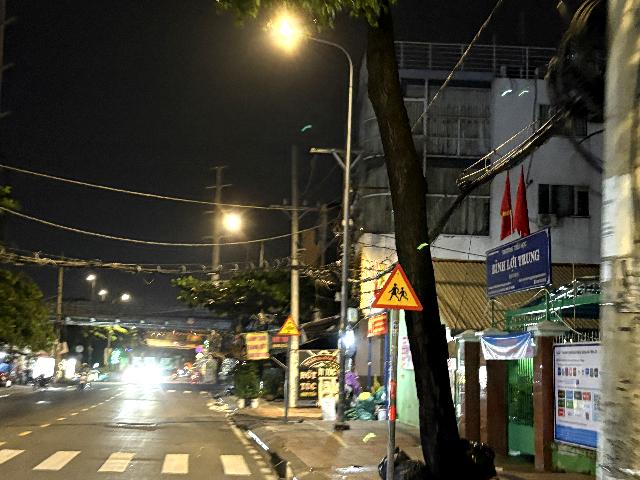tre-em-qua-duong: (372, 262, 424, 311)
